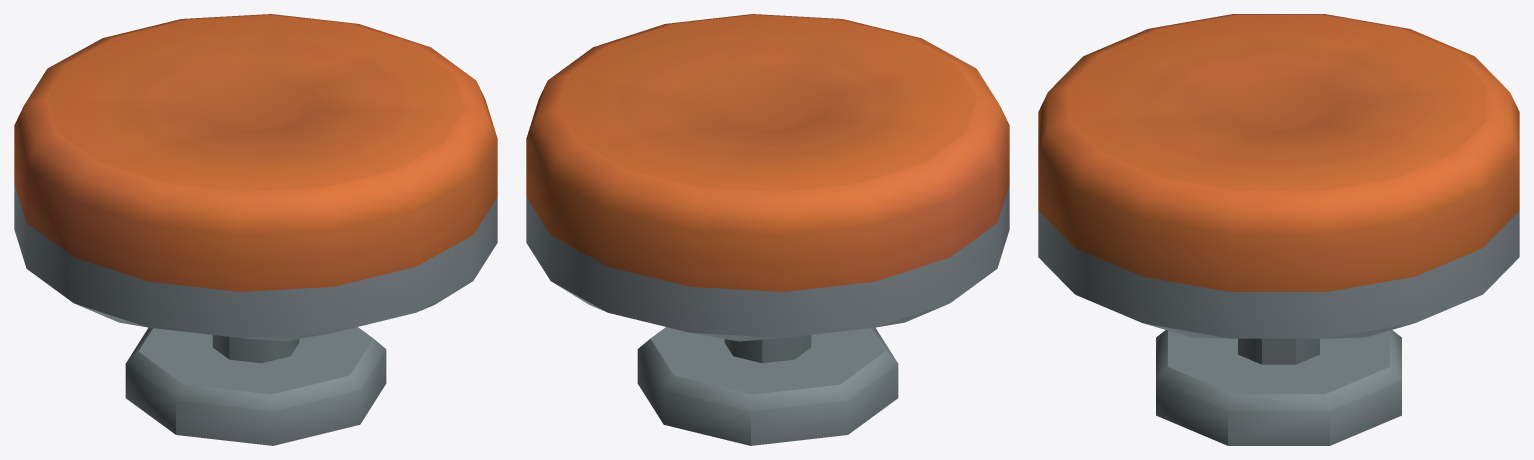
The model's file is kay-banqueta-bar.gltf.
3 renders of one model, left to right at view 1: azimuth 30°, elevation 25°; view 2: azimuth 150°, elevation 25°; view 3: azimuth 270°, elevation 25°, orthographic.
Parts seen in each view (by area): view 1: chair_stool; view 2: chair_stool; view 3: chair_stool.
Boxes of the visible parts, x1,y1,x2,y2 form: chair_stool: [14, 14, 497, 445]; chair_stool: [526, 14, 1009, 445]; chair_stool: [1038, 14, 1519, 445].
Size of the model in its own units: 0.4875 by 0.325 by 0.4875.
Materials: 1 (1 with a texture image).
